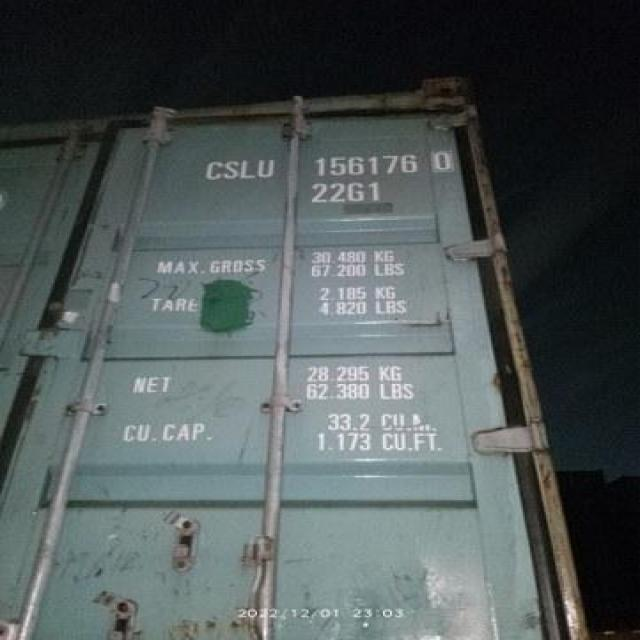ISO: (314, 183, 379, 204)
container_number: (196, 153, 449, 185)
